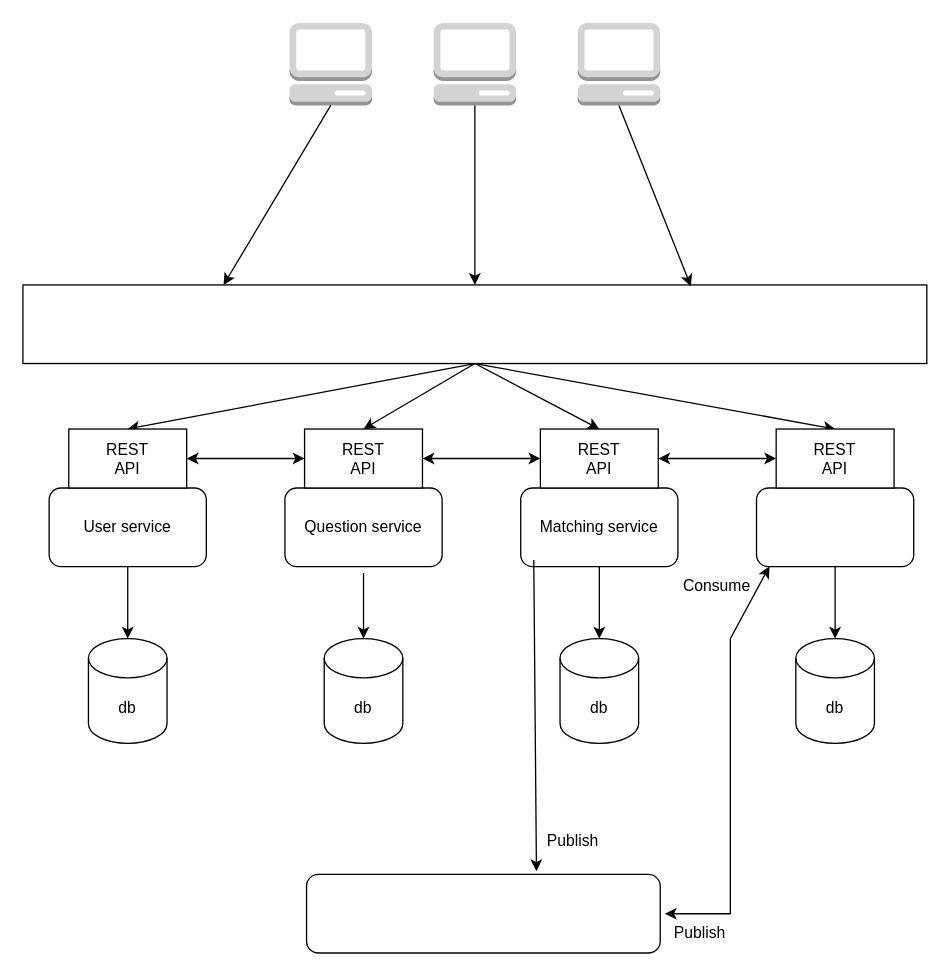
Image size: 950x976. Some labels were removed from this diagram. Here are the shapes that lost their labels. From the top down, the centre of each, then its label:
At (x=474, y=324): "API Gateway".
At (x=834, y=527): "Collaboration service".
At (x=482, y=913): "Message Broker (Aysnc communication channel between services)".
